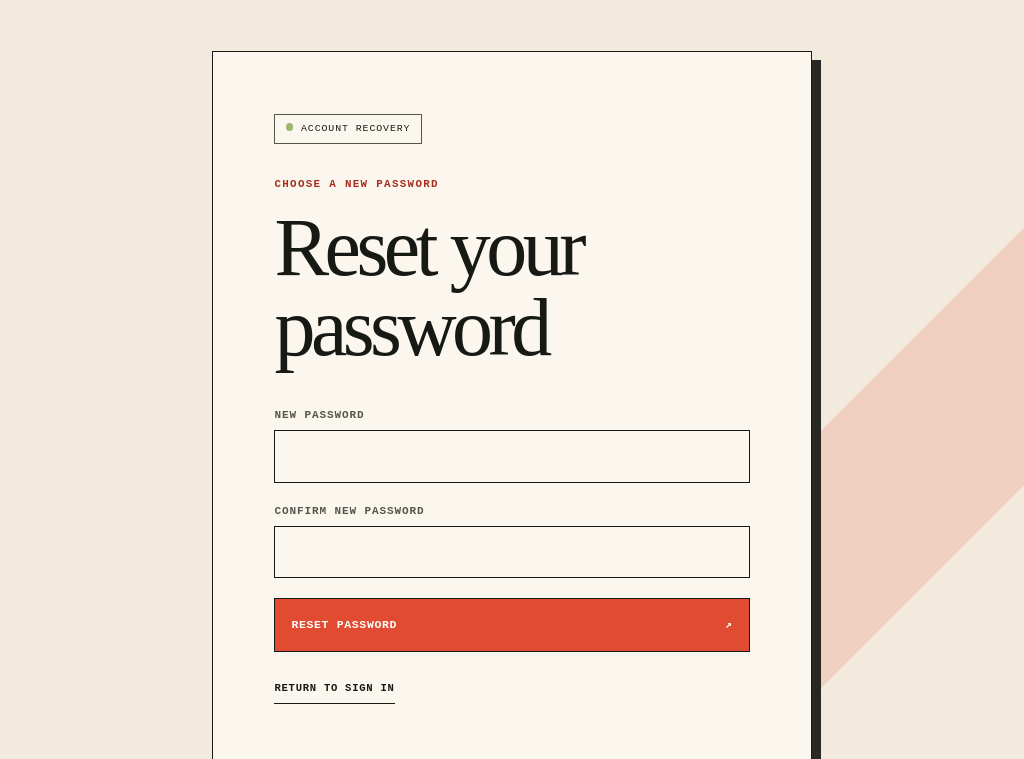
Scenario: AI project workshop › renders the stable ACCOUNT_ACTION_INVALID reset state without backend copy
Type "UpdatedPassword123!" into the password field labelled "New password" at point(512, 456), box [274,430,750,483]
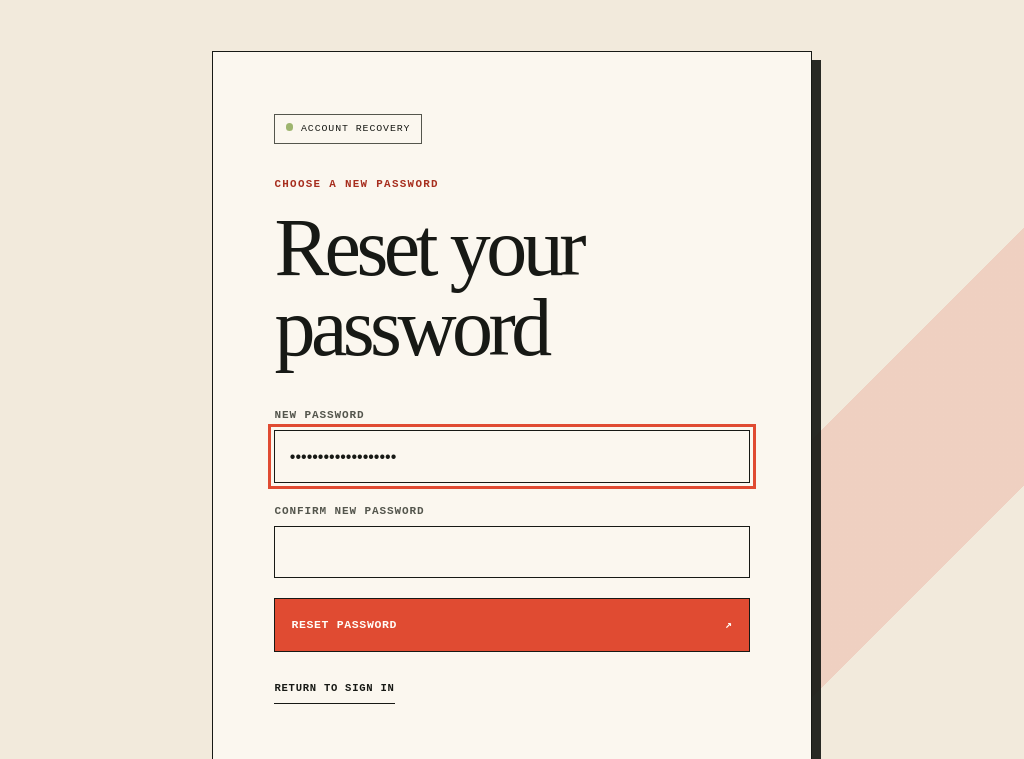
Type "UpdatedPassword123!" into the password field labelled "Confirm new password" at point(512, 552), box [274,526,750,578]
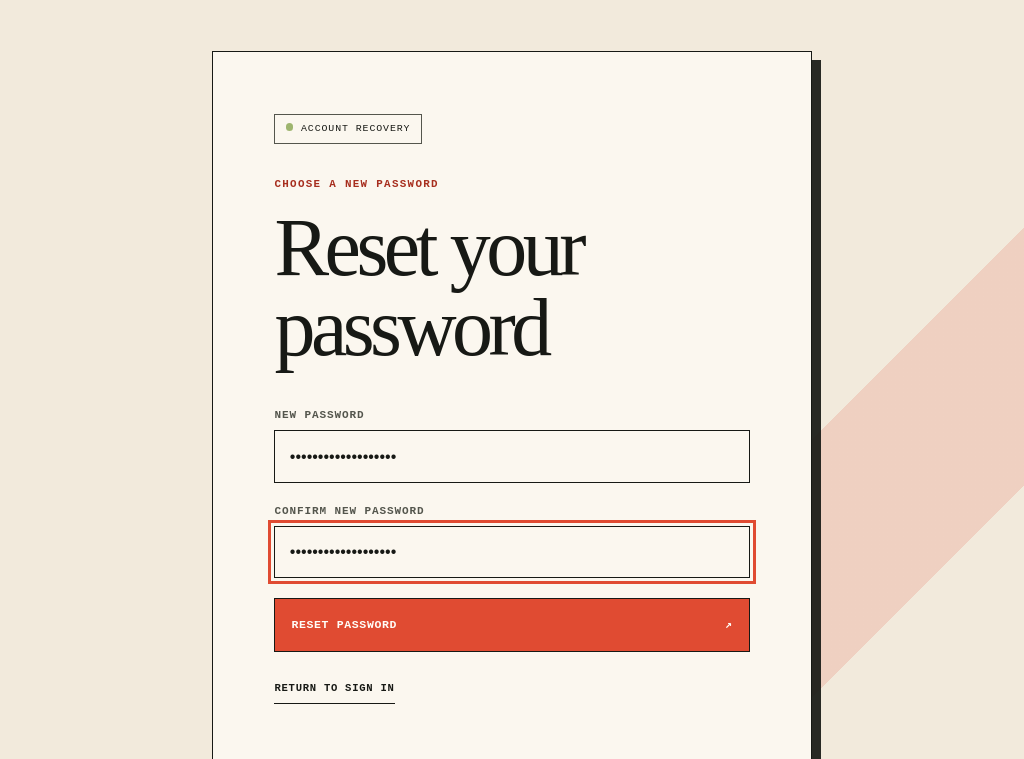
Click the button "Reset password ↗" at point(344, 625), box [274,598,750,652]
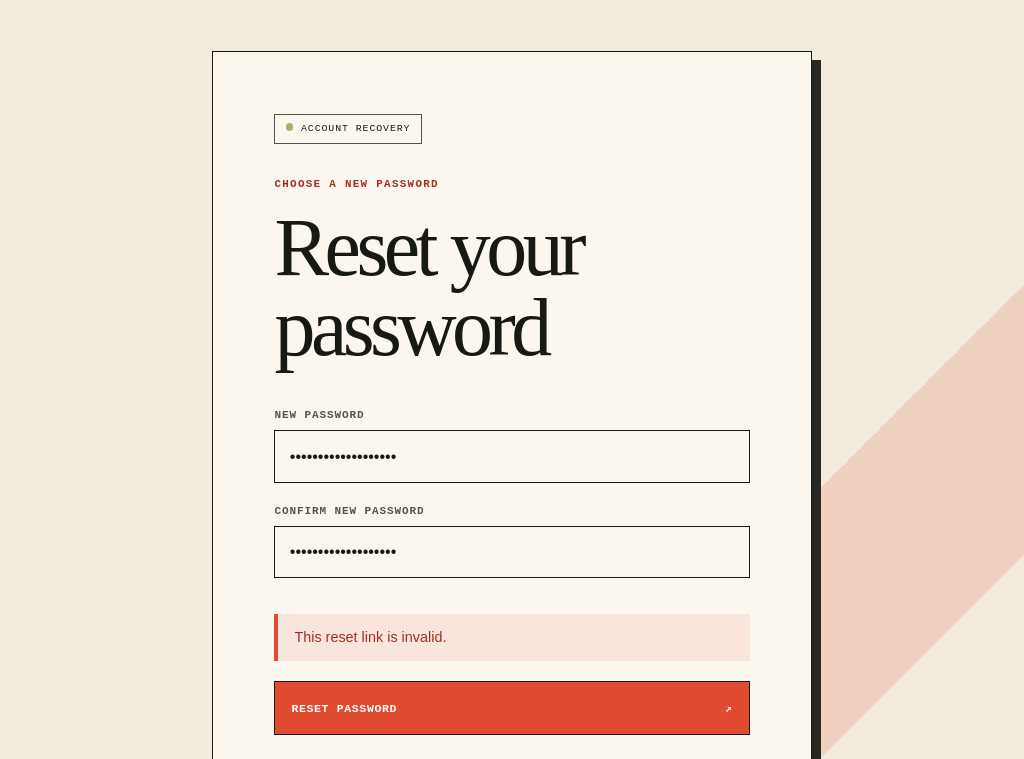
Expected: the message reads "This reset link is invalid.", [294,629,446,645]
